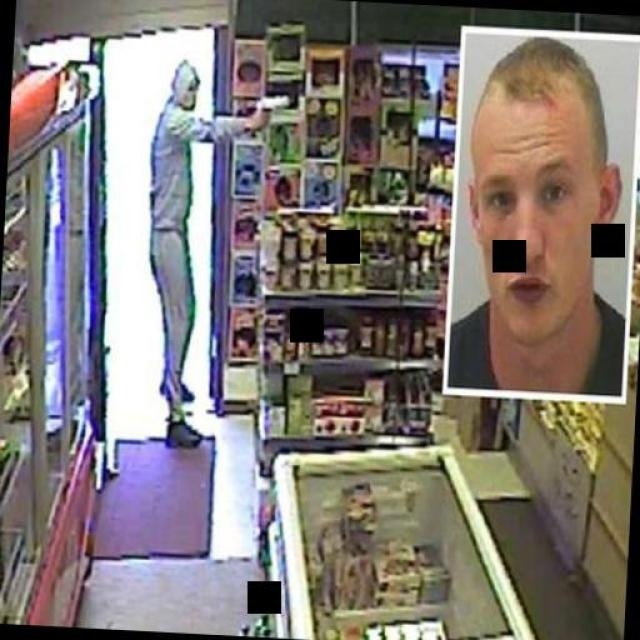gun: (240, 84, 290, 138)
